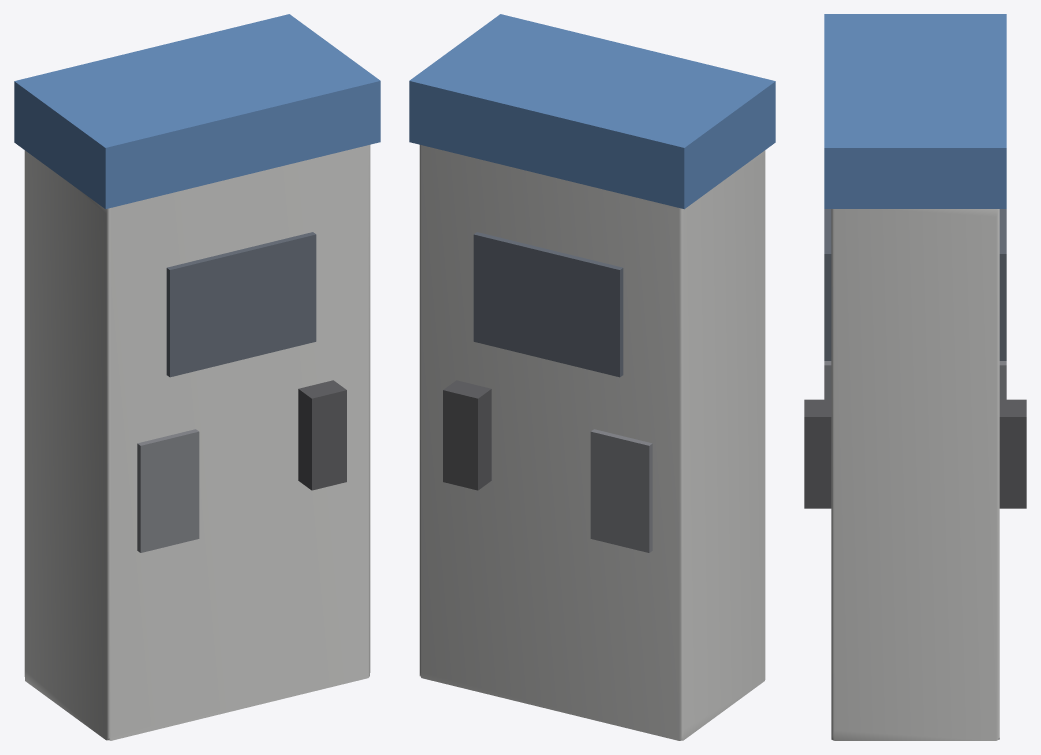
File: fuel_pump.glb
The picture shows the model from 3 angles, left to right: view 1: azimuth 30°, elevation 25°; view 2: azimuth 150°, elevation 25°; view 3: azimuth 270°, elevation 25°; orthographic projection.
Visible parts, largest first — view 1: fuel_pump_pump, fuel_pump_band, fuel_pump_screen, fuel_pump_dark, fuel_pump_hose; view 2: fuel_pump_pump, fuel_pump_band, fuel_pump_screen, fuel_pump_dark, fuel_pump_hose; view 3: fuel_pump_pump, fuel_pump_band, fuel_pump_hose, fuel_pump_screen, fuel_pump_dark.
Part boxes in pixels (left/top/right/bottom): fuel_pump_pump: left=24, top=145, right=370, bottom=740; fuel_pump_band: left=14, top=14, right=380, bottom=209; fuel_pump_screen: left=166, top=232, right=316, bottom=377; fuel_pump_dark: left=137, top=429, right=199, bottom=552; fuel_pump_hose: left=298, top=380, right=346, bottom=490; fuel_pump_pump: left=419, top=145, right=765, bottom=740; fuel_pump_band: left=409, top=14, right=775, bottom=209; fuel_pump_screen: left=473, top=232, right=623, bottom=377; fuel_pump_dark: left=590, top=429, right=652, bottom=552; fuel_pump_hose: left=443, top=380, right=491, bottom=490; fuel_pump_pump: left=831, top=209, right=999, bottom=740; fuel_pump_band: left=824, top=14, right=1006, bottom=208; fuel_pump_hose: left=804, top=399, right=1026, bottom=508; fuel_pump_screen: left=824, top=209, right=1006, bottom=360; fuel_pump_dark: left=824, top=361, right=1006, bottom=399.
Bounding box in the file's own units: 0.94 × 1.95 × 0.66.
